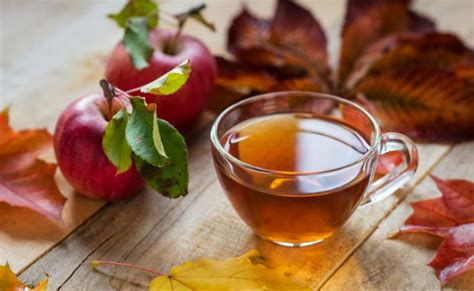apple: (52, 87, 156, 201), (106, 25, 219, 127)
